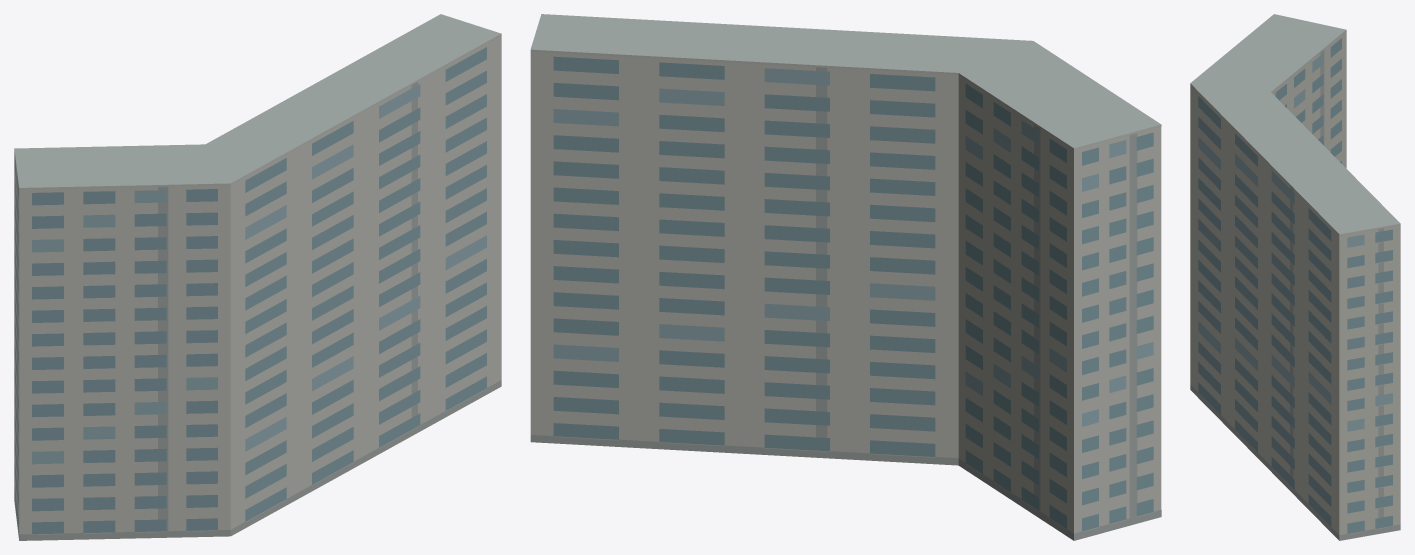
The model's file is residential-d83cadc7-279d-4cda-b411-47fb58170aac.glb.
3 renders of one model, left to right at view 1: azimuth 30°, elevation 25°; view 2: azimuth 150°, elevation 25°; view 3: azimuth 270°, elevation 25°, orthographic. The views are drawn at different scales.
Parts seen in each view (by area): view 1: residential-d83cadc7-279d-4cda-b411-47fb58170aac.tmp; view 2: residential-d83cadc7-279d-4cda-b411-47fb58170aac.tmp; view 3: residential-d83cadc7-279d-4cda-b411-47fb58170aac.tmp.
Boxes of the visible parts, x1,y1,x2,y2 form: residential-d83cadc7-279d-4cda-b411-47fb58170aac.tmp: (14, 14, 501, 540); residential-d83cadc7-279d-4cda-b411-47fb58170aac.tmp: (530, 14, 1161, 540); residential-d83cadc7-279d-4cda-b411-47fb58170aac.tmp: (1190, 14, 1400, 540).
Bounding box in the file's own units: 70.54 × 45.75 × 28.46.
